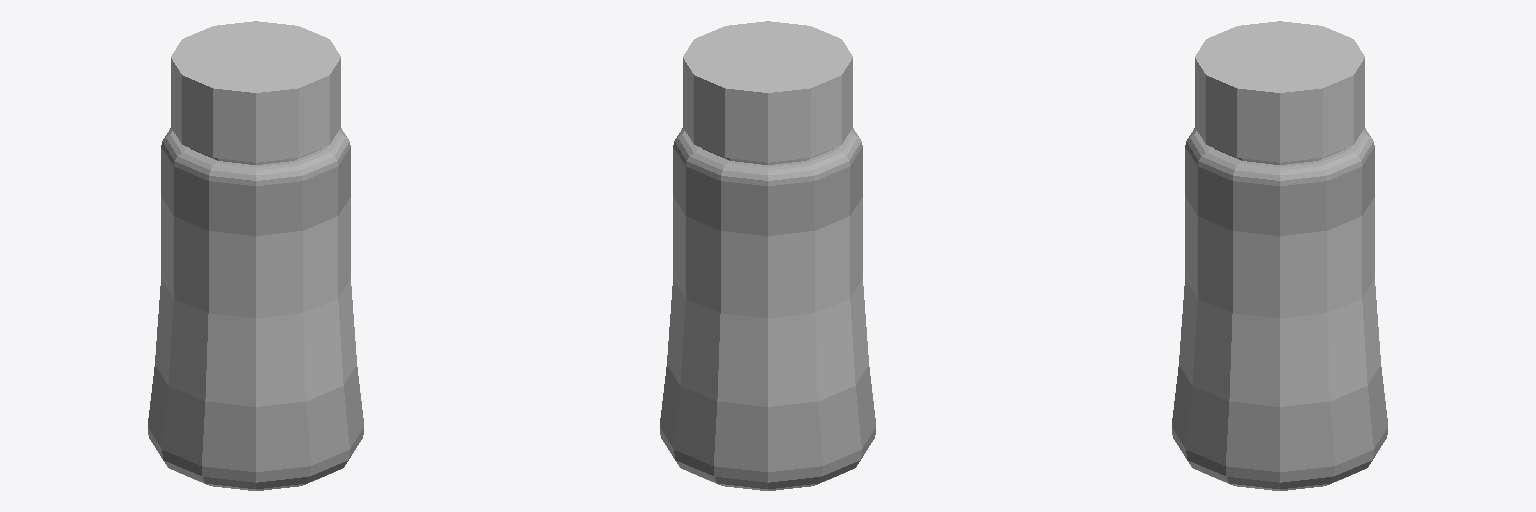
3 renders of one model, left to right at view 1: azimuth 30°, elevation 25°; view 2: azimuth 150°, elevation 25°; view 3: azimuth 270°, elevation 25°, orthographic.
Visible parts, largest first — view 1: coffee_jar, cap; view 2: coffee_jar, cap; view 3: coffee_jar, cap.
Boxes of the visible parts, x1=… form: coffee_jar: x1=148, y1=128, x2=363, y2=490; cap: x1=171, y1=21, x2=340, y2=162; coffee_jar: x1=660, y1=128, x2=875, y2=490; cap: x1=683, y1=21, x2=852, y2=162; coffee_jar: x1=1172, y1=128, x2=1387, y2=490; cap: x1=1195, y1=21, x2=1364, y2=162.
Bounding box in the file's own units: 0.0754 × 0.1526 × 0.0754.
Materials: 3 (1 with a texture image).